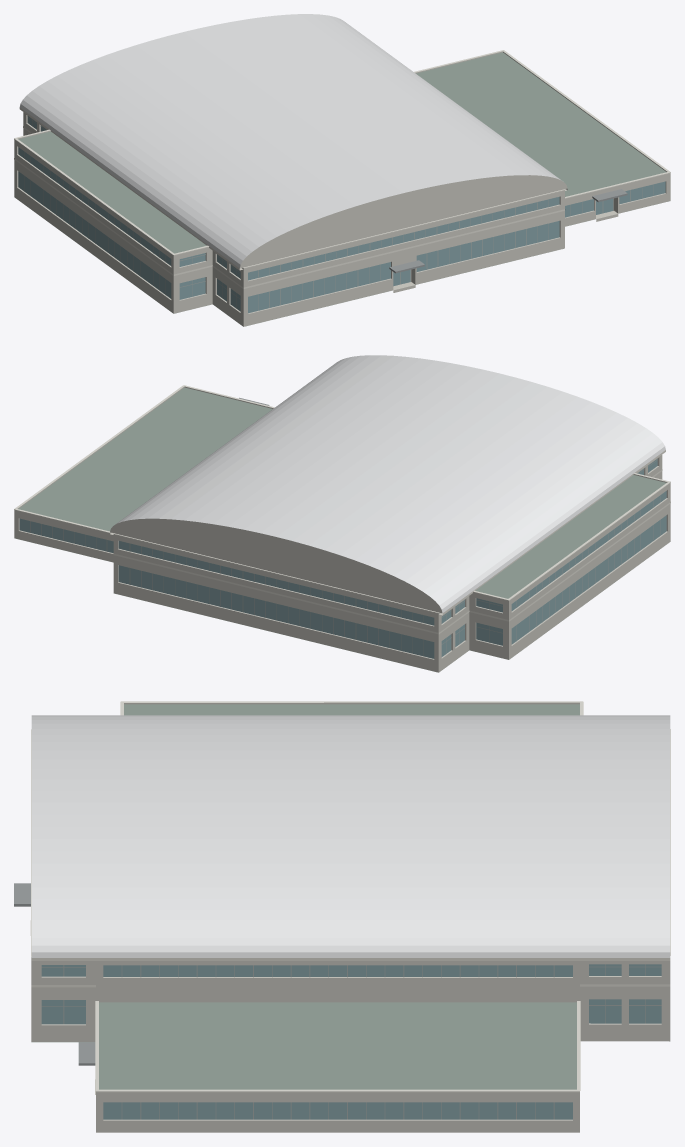
3 renders of one model, top to bottom at view 1: azimuth 30°, elevation 25°; view 2: azimuth 150°, elevation 25°; view 3: azimuth 270°, elevation 25°, orthographic. The views are drawn at different scales.
Parts seen in each view (by area): view 1: gym__vaultRoof, gym__wall, gym__roof, gym__glass, gym__vaultEnd, gym__trim, gym__frame, gym__parapet, gym__canopy; view 2: gym__vaultRoof, gym__wall, gym__roof, gym__glass, gym__vaultEnd, gym__trim, gym__frame, gym__parapet; view 3: gym__vaultRoof, gym__roof, gym__wall, gym__glass, gym__trim, gym__frame, gym__parapet, gym__canopy.
Boxes of the visible parts, x1,y1,x2,y2 form: gym__vaultRoof: (20, 14, 563, 268); gym__wall: (14, 112, 670, 326); gym__roof: (18, 52, 668, 326); gym__glass: (18, 116, 665, 313); gym__vaultEnd: (240, 175, 567, 268); gym__trim: (14, 50, 670, 288); gym__frame: (24, 117, 653, 310); gym__parapet: (17, 51, 667, 268); gym__canopy: (389, 189, 627, 273); gym__vaultRoof: (115, 355, 665, 613); gym__wall: (14, 455, 670, 672); gym__roof: (16, 387, 665, 672); gym__glass: (19, 459, 666, 658); gym__vaultEnd: (110, 518, 442, 613); gym__trim: (14, 385, 670, 634); gym__frame: (30, 459, 660, 656); gym__parapet: (17, 386, 667, 613); gym__vaultRoof: (31, 715, 670, 957); gym__roof: (31, 704, 669, 1089); gym__wall: (31, 958, 670, 1132); gym__glass: (41, 964, 661, 1119); gym__trim: (31, 701, 670, 1092); gym__frame: (41, 964, 661, 1119); gym__parapet: (124, 702, 579, 704); gym__canopy: (14, 883, 95, 1065).
Size of the model in its own units: 79.54 by 15.1 by 63.8.
